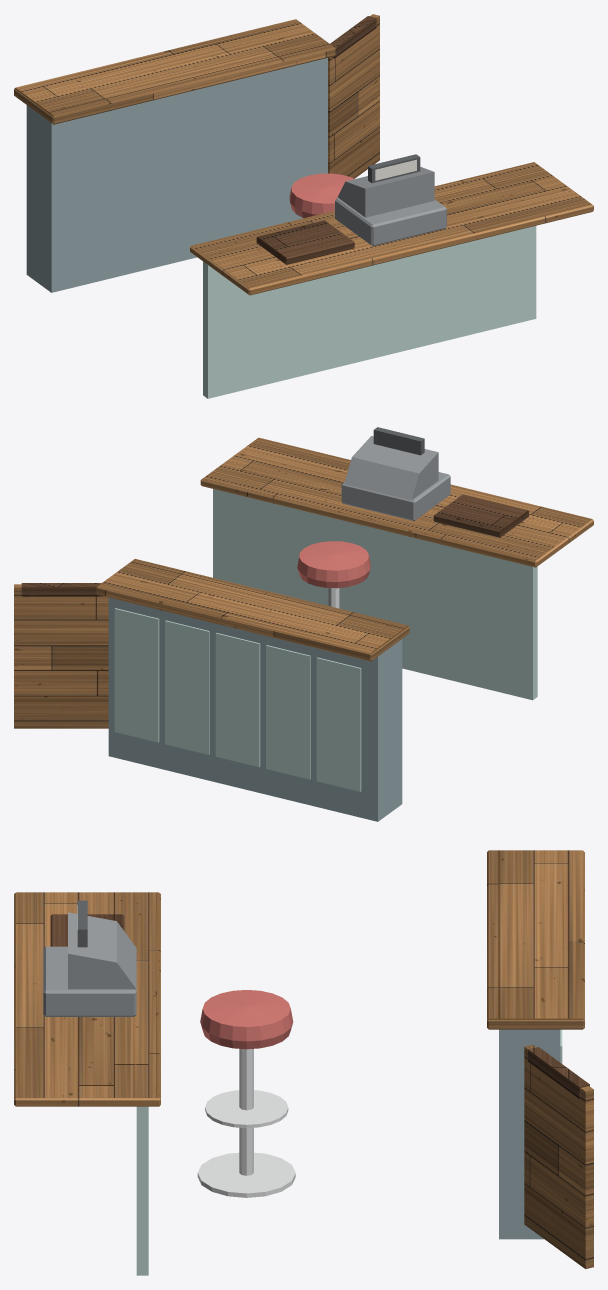
File: cashier.glb
3 views of the same model, one above another, from view 1: azimuth 30°, elevation 25°; view 2: azimuth 150°, elevation 25°; view 3: azimuth 270°, elevation 25° (orthographic). The views are drawn at different scales.
Parts seen in each view (by area): view 1: cashier_tile_b, cashier_wood, cashier_tile_c, cashier_steel, cashier_dkwood, cashier_vinyl_r, cashier_dark; view 2: cashier_tile_c, cashier_wood, cashier_tile_b, cashier_steel, cashier_dkwood, cashier_vinyl_r, cashier_dark; view 3: cashier_wood, cashier_steel, cashier_chrome, cashier_tile_b, cashier_vinyl_r, cashier_tile_c, cashier_dkwood.
Boxes of the visible parts, bbox=[...] form: cashier_tile_b: bbox=[26, 58, 327, 292]; cashier_wood: bbox=[14, 14, 593, 295]; cashier_tile_c: bbox=[203, 226, 536, 398]; cashier_steel: bbox=[335, 167, 446, 246]; cashier_dkwood: bbox=[256, 16, 376, 264]; cashier_vinyl_r: bbox=[289, 173, 354, 217]; cashier_dark: bbox=[368, 154, 420, 183]; cashier_tile_c: bbox=[114, 489, 537, 791]; cashier_wood: bbox=[14, 437, 593, 728]; cashier_tile_b: bbox=[108, 597, 402, 821]; cashier_steel: bbox=[341, 436, 450, 520]; cashier_dkwood: bbox=[21, 494, 528, 596]; cashier_vinyl_r: bbox=[297, 541, 370, 588]; cashier_dark: bbox=[373, 427, 424, 455]; cashier_wood: bbox=[14, 850, 593, 1268]; cashier_steel: bbox=[43, 912, 136, 1016]; cashier_chrome: bbox=[197, 1049, 295, 1197]; cashier_tile_b: bbox=[499, 1029, 560, 1239]; cashier_vinyl_r: bbox=[200, 990, 293, 1049]; cashier_tile_c: bbox=[136, 1029, 562, 1275]; cashier_dkwood: bbox=[50, 914, 589, 1099].
Size of the model in its own units: 2.12 by 1.18 by 2.37.
9 materials, 2 textured.
